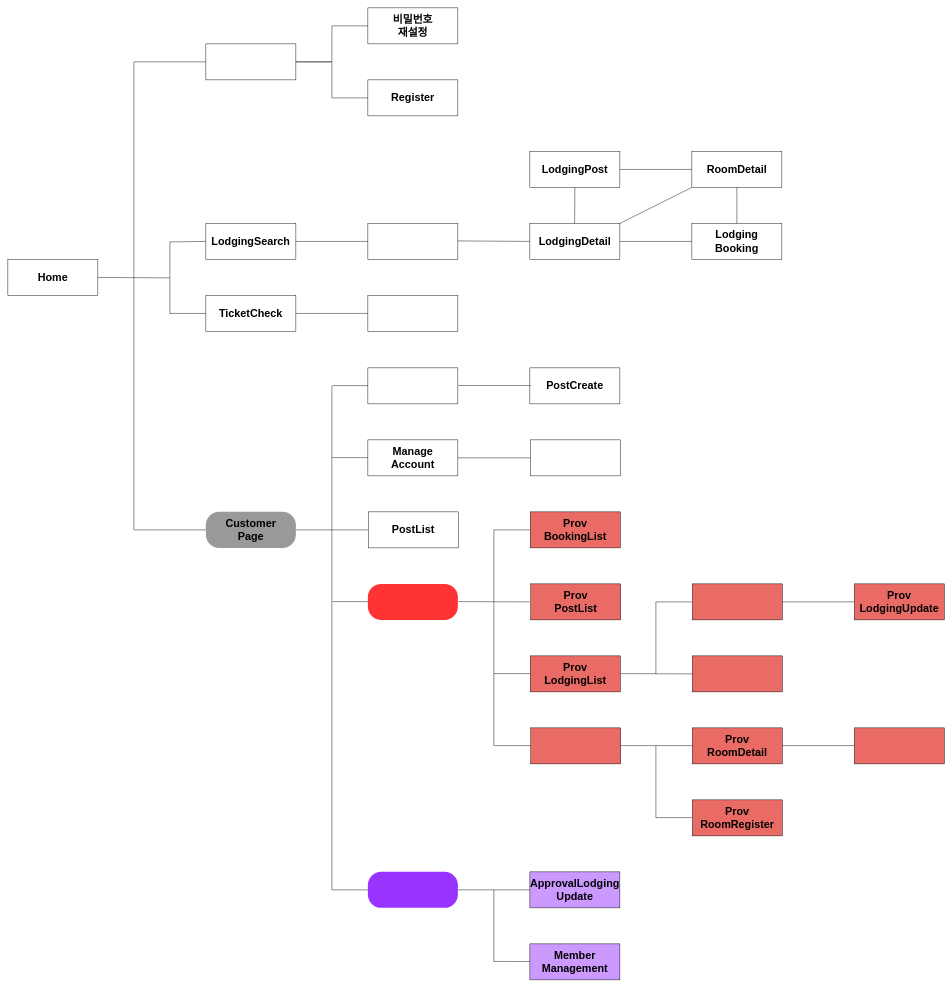
Image size: 952x988. Some labels were removed from this diagram. Here are the shapes that lost their labels. From the top down, the centre of each, then its label:
the point at 250,61: Login
the point at 412,241: LodgingList
the point at 412,313: TicketList
the point at 412,385: BookingList
the point at 575,457: Unregister
the point at 413,602: Provider Page
the point at 737,601: Prov LodgingDetail
the point at 737,673: Prov LodgingRegister
the point at 575,745: Prov RoomList
the point at 899,745: Prov RoomUpdate
the point at 413,890: Manager Page
